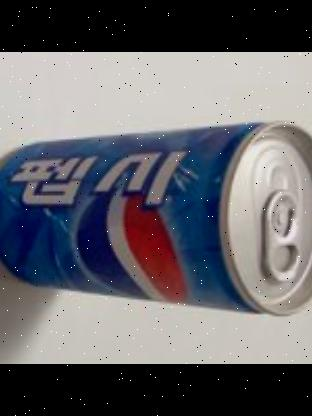Can: (0, 118, 312, 316)
